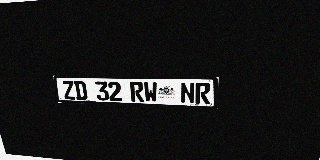plate: (53, 75, 219, 109)
